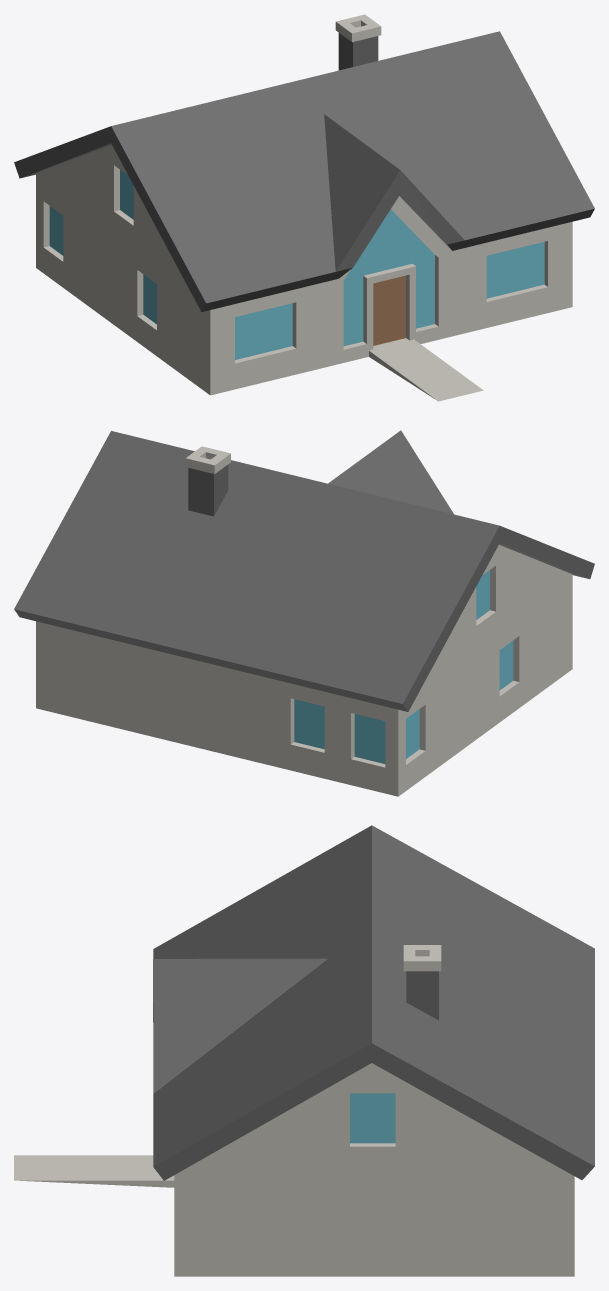
The model's file is house-mid.glb.
The picture shows the model from 3 angles, top to bottom: view 1: azimuth 30°, elevation 25°; view 2: azimuth 150°, elevation 25°; view 3: azimuth 270°, elevation 25°; orthographic projection. The views are drawn at different scales.
Parts seen in each view (by area): view 1: house-mid_Cube.007; view 2: house-mid_Cube.007; view 3: house-mid_Cube.007.
Boxes of the visible parts, x1,y1,x2,y2 form: house-mid_Cube.007: [14, 14, 594, 401]; house-mid_Cube.007: [14, 430, 594, 796]; house-mid_Cube.007: [14, 825, 594, 1276].
Size of the model in its own units: 12.88 by 7.28 by 14.5.
Materials: 1 (1 with a texture image).
